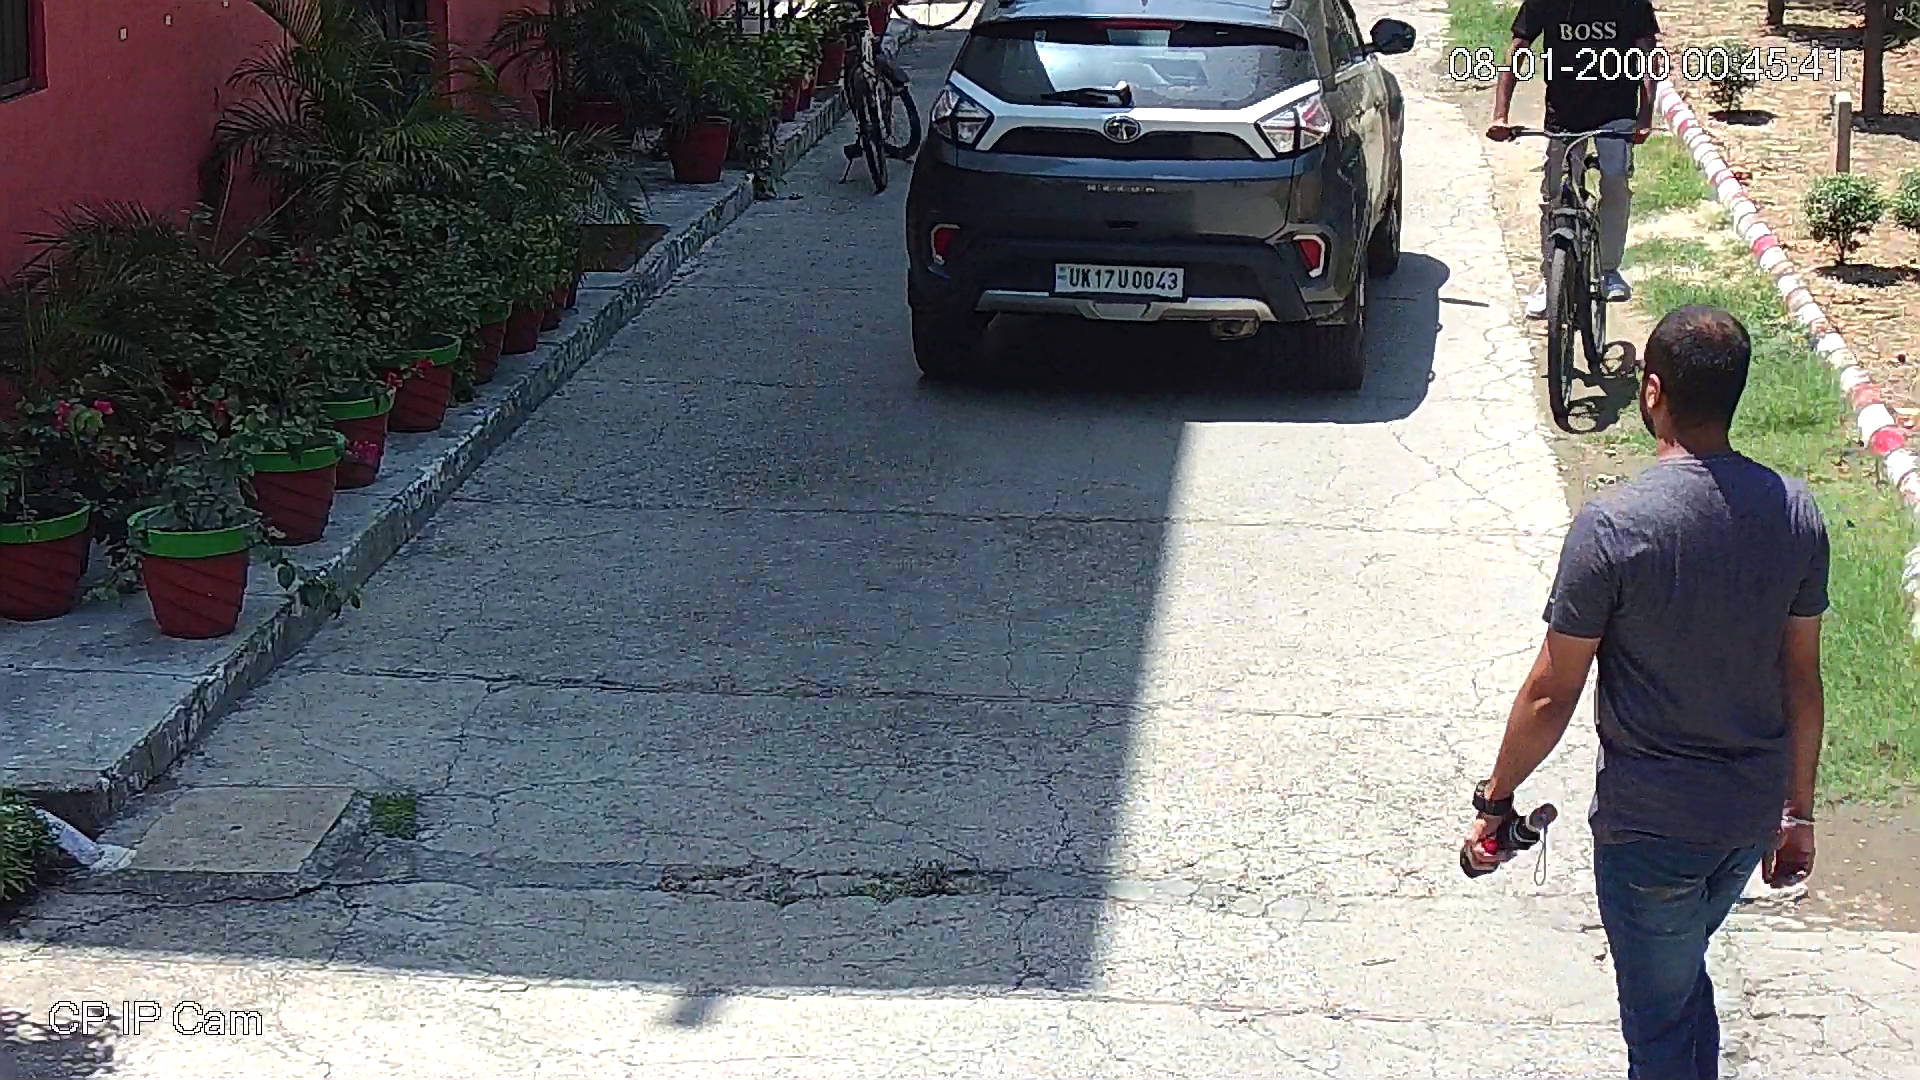plate: (1049, 257, 1191, 301)
